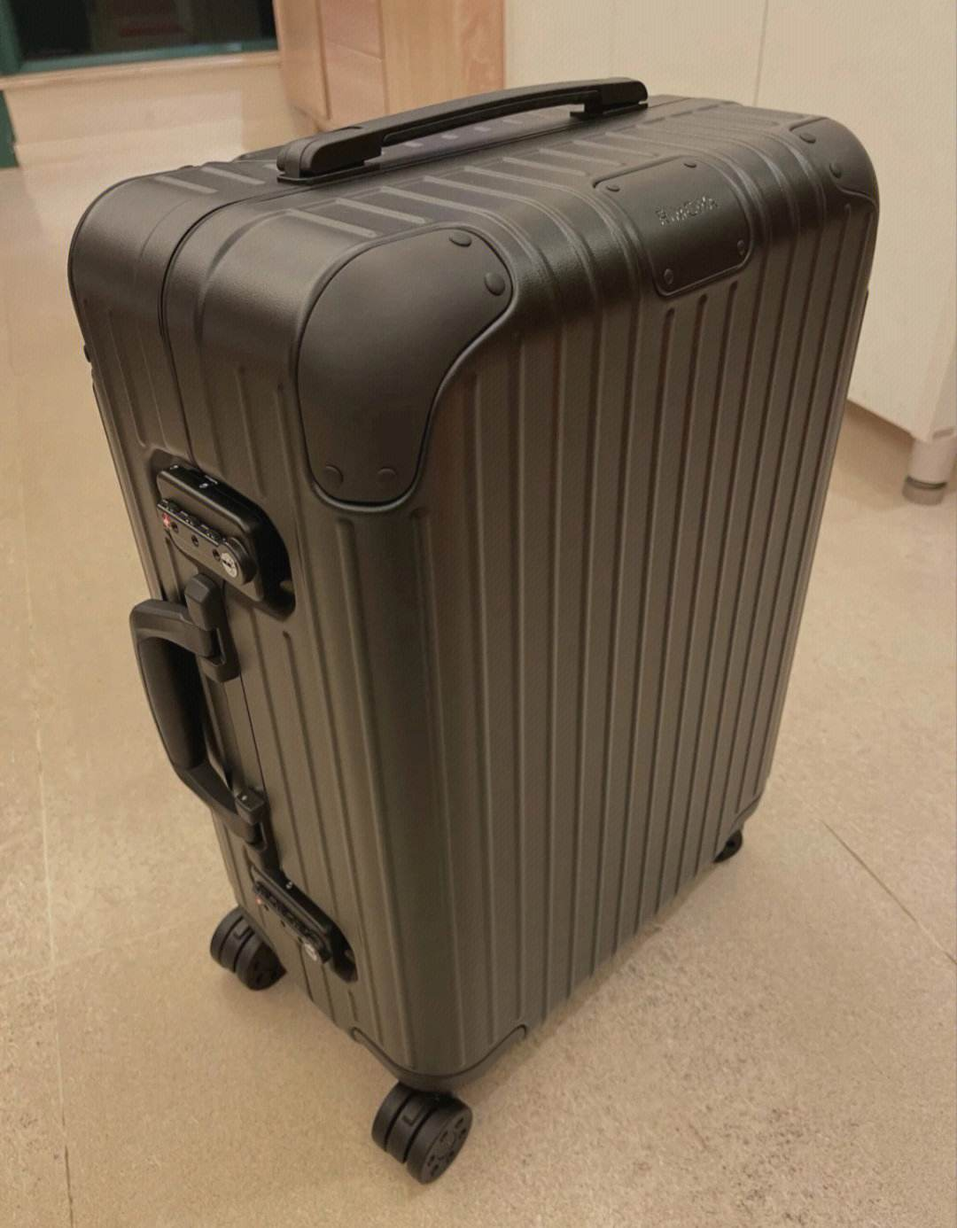box: (68, 86, 879, 1082)
handle: (277, 78, 649, 183), (127, 577, 268, 853)
lock: (153, 462, 272, 606), (253, 871, 345, 975)
wheel: (371, 1077, 473, 1185), (210, 905, 287, 991)
